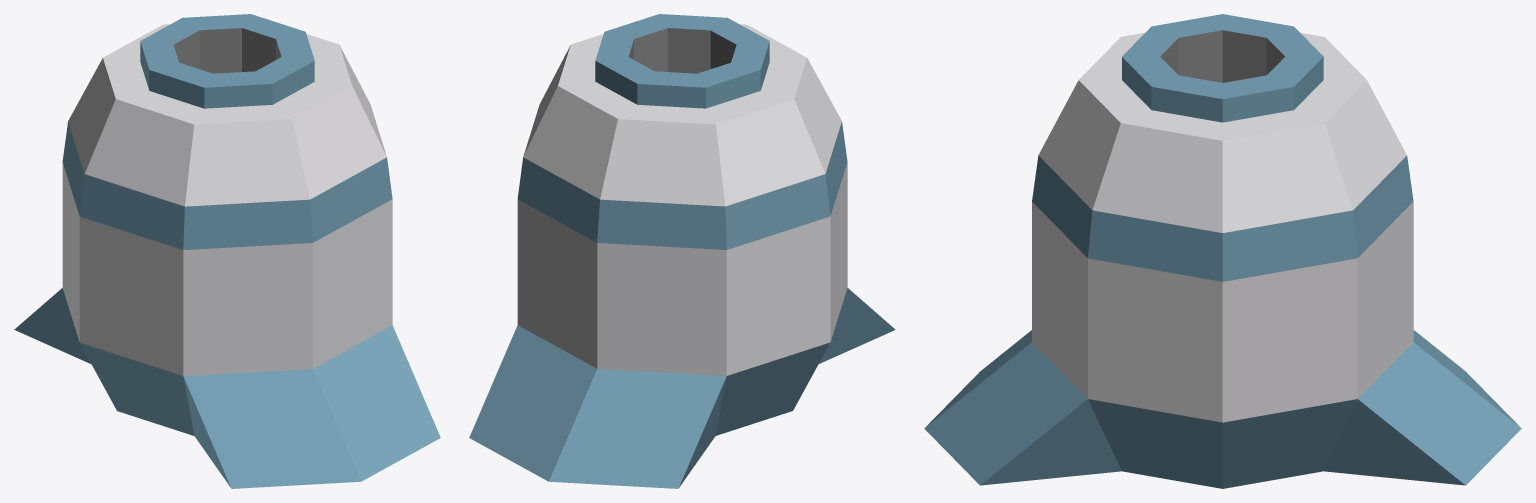
Rendered from ore_producer.fbx.
3 renders of one model, left to right at view 1: azimuth 30°, elevation 25°; view 2: azimuth 150°, elevation 25°; view 3: azimuth 270°, elevation 25°, orthographic. The views are drawn at different scales.
Parts seen in each view (by area): view 1: ore_producer; view 2: ore_producer; view 3: ore_producer.
Boxes of the visible parts, <box> form: ore_producer: <box>14,14,440,488</box>; ore_producer: <box>469,14,895,488</box>; ore_producer: <box>924,14,1521,488</box>.
Bounding box in the file's own units: 3.96 × 6.2 × 4.26.
